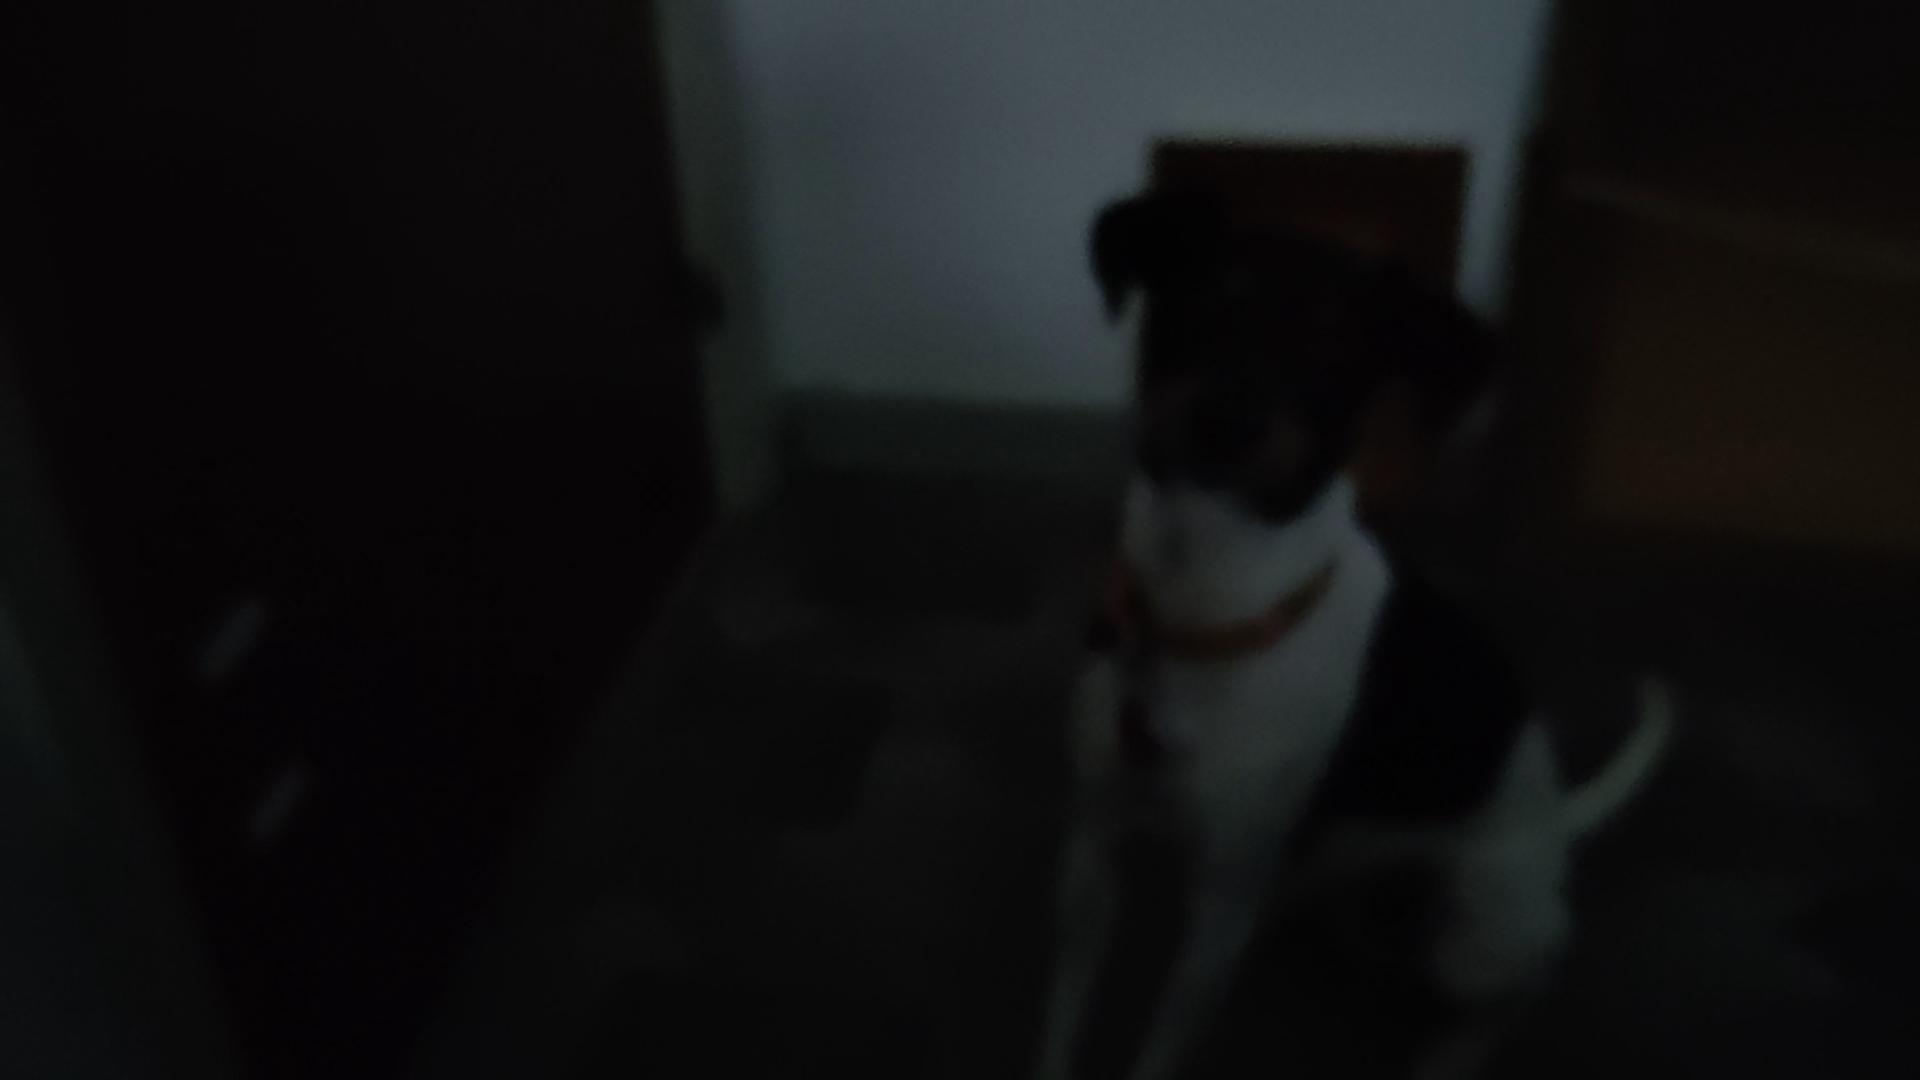Dog: (992, 160, 1695, 1079)
